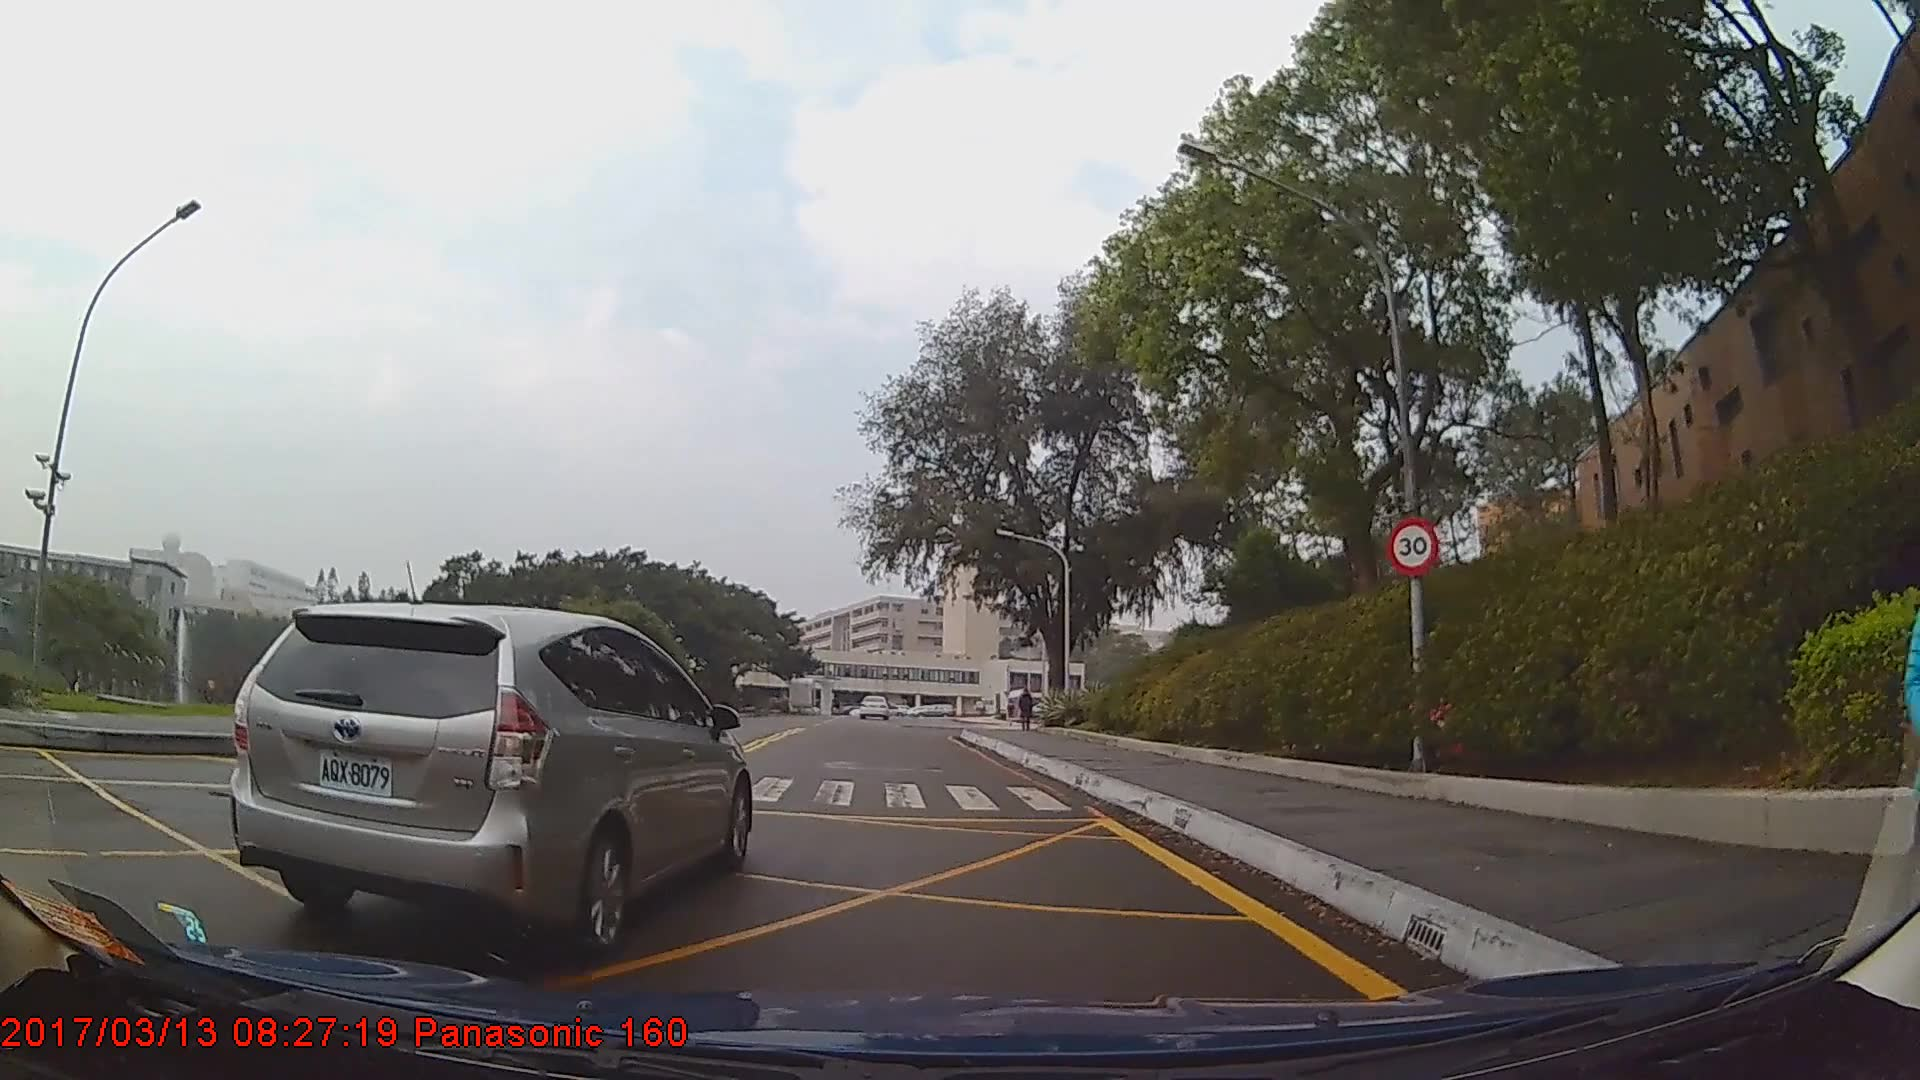pedestrian: (1017, 689, 1037, 734)
vehicle: (228, 597, 753, 958), (858, 692, 887, 719)
